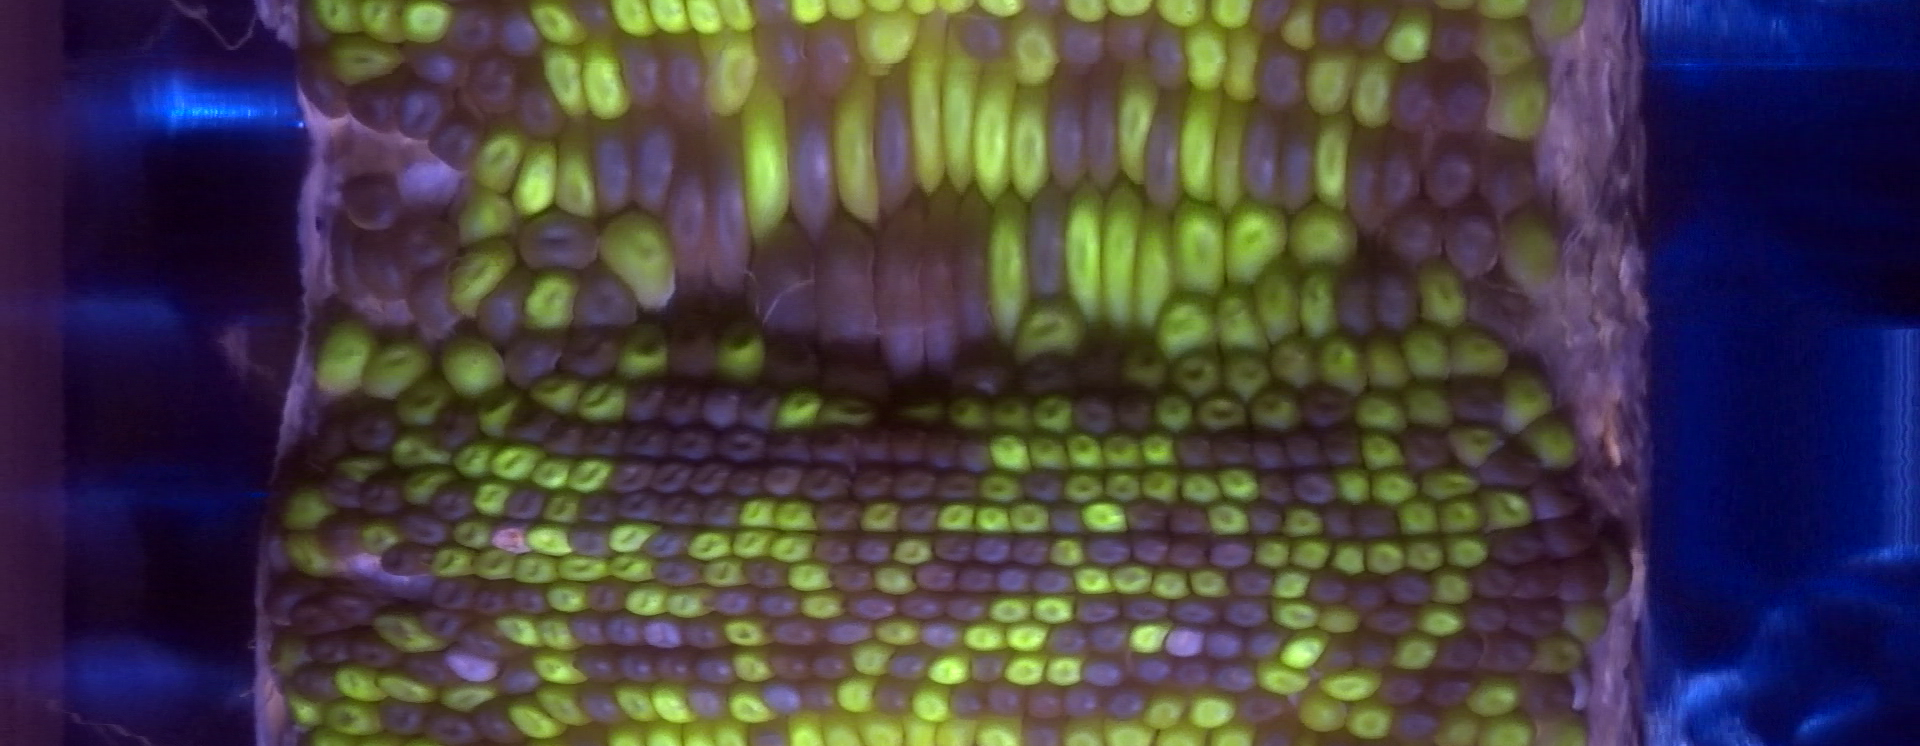fluorescent: (831, 71, 884, 229), (595, 209, 675, 312), (738, 89, 787, 235), (904, 36, 945, 197), (989, 190, 1029, 345), (1102, 181, 1139, 343), (1064, 187, 1103, 328), (944, 36, 980, 190), (1005, 85, 1051, 200), (1224, 201, 1286, 285), (449, 245, 518, 318), (697, 29, 756, 113), (318, 318, 378, 397), (1138, 209, 1176, 332), (1117, 72, 1156, 187), (1499, 216, 1559, 290), (1176, 205, 1224, 295), (1213, 99, 1250, 216), (1488, 69, 1548, 138), (1288, 209, 1356, 271), (980, 58, 1008, 198), (539, 43, 588, 124), (1153, 296, 1216, 359), (556, 130, 598, 220), (1349, 51, 1397, 129), (1311, 113, 1349, 209), (331, 38, 405, 87), (364, 347, 435, 398), (1498, 367, 1556, 429), (615, 321, 673, 381), (442, 339, 507, 393), (1180, 89, 1211, 203), (1414, 265, 1471, 326), (588, 34, 628, 118), (1016, 305, 1080, 358), (514, 138, 555, 220), (1221, 24, 1264, 102), (1476, 17, 1537, 71), (1400, 327, 1453, 387), (1011, 17, 1059, 85), (714, 323, 765, 385), (475, 122, 522, 190), (1255, 269, 1299, 341), (524, 269, 577, 328), (459, 187, 513, 243), (853, 15, 920, 59), (1185, 23, 1228, 91), (371, 612, 447, 650), (1213, 303, 1270, 353), (525, 4, 589, 47), (1293, 273, 1335, 338), (1382, 6, 1431, 61), (1321, 334, 1370, 390), (1453, 330, 1509, 379), (396, 379, 456, 423), (1307, 47, 1346, 113), (1558, 599, 1611, 646), (333, 659, 384, 706), (1356, 394, 1409, 437), (1449, 428, 1502, 470), (487, 440, 542, 481), (1520, 421, 1580, 459), (503, 702, 564, 737), (530, 650, 587, 688), (1403, 386, 1457, 425), (1536, 707, 1589, 746), (1251, 391, 1307, 429), (449, 436, 500, 478), (538, 686, 589, 726), (359, 1, 404, 47), (283, 535, 331, 578), (1273, 628, 1327, 666), (531, 375, 589, 410), (400, 465, 451, 506), (388, 432, 447, 467), (398, 4, 451, 42), (1128, 343, 1171, 390), (1176, 353, 1223, 394), (1364, 343, 1408, 387), (1223, 356, 1271, 397), (1273, 341, 1314, 388), (493, 612, 542, 652), (1469, 677, 1518, 717), (1278, 1, 1318, 49), (1483, 491, 1531, 530), (651, 684, 696, 725), (1256, 659, 1308, 695), (615, 684, 661, 723), (380, 674, 435, 707), (1536, 1, 1584, 38), (426, 544, 475, 581), (871, 615, 924, 648), (1536, 635, 1581, 674), (1145, 687, 1184, 733), (1321, 670, 1376, 702), (1417, 601, 1466, 637), (1125, 620, 1176, 654), (606, 518, 660, 550), (1297, 696, 1348, 729), (609, 2, 656, 38), (1348, 702, 1396, 737), (326, 706, 386, 734), (1397, 497, 1438, 539), (278, 688, 320, 729), (280, 492, 333, 524), (1393, 631, 1438, 669), (1422, 465, 1480, 494), (1270, 599, 1321, 631), (721, 619, 773, 650), (782, 709, 830, 744), (947, 396, 989, 434), (313, 2, 362, 36), (523, 526, 572, 559), (438, 682, 493, 712), (860, 709, 909, 742), (1194, 397, 1247, 428), (1280, 505, 1325, 540), (624, 583, 670, 619), (851, 642, 898, 676), (1429, 706, 1476, 740), (1005, 647, 1047, 685), (729, 688, 776, 722), (1100, 432, 1142, 469), (1189, 692, 1233, 728), (767, 496, 816, 528), (577, 390, 623, 423), (1375, 470, 1416, 508), (928, 649, 972, 684), (480, 393, 518, 432), (1483, 717, 1536, 745), (1007, 500, 1053, 532), (1157, 393, 1200, 428), (471, 478, 509, 516), (730, 647, 769, 684), (1439, 497, 1479, 533), (513, 550, 556, 583), (1430, 570, 1473, 603), (822, 710, 864, 744), (1036, 396, 1074, 432), (992, 434, 1029, 472), (915, 684, 951, 722), (360, 521, 399, 556), (1043, 653, 1082, 688), (688, 530, 733, 561), (1035, 594, 1078, 626), (873, 563, 917, 594), (1315, 604, 1359, 635), (561, 459, 609, 488), (767, 534, 814, 562), (860, 501, 900, 534), (733, 524, 774, 557), (782, 394, 824, 426), (538, 489, 579, 521), (996, 399, 1040, 429), (530, 457, 569, 490), (962, 621, 1007, 650), (273, 635, 306, 674), (820, 403, 873, 428), (1078, 505, 1125, 532), (538, 617, 576, 650), (838, 677, 876, 710), (1026, 434, 1067, 464), (475, 549, 516, 579), (1205, 505, 1253, 530), (702, 556, 747, 583), (740, 495, 775, 529), (1367, 537, 1401, 572), (992, 592, 1027, 626), (1365, 432, 1402, 465), (1449, 534, 1487, 566), (340, 453, 384, 480), (1335, 538, 1364, 578), (1408, 537, 1442, 571), (1075, 563, 1111, 597), (902, 713, 939, 745), (789, 565, 834, 590), (1060, 472, 1103, 499), (1220, 470, 1262, 497), (970, 501, 1009, 530), (1180, 472, 1220, 501), (556, 555, 602, 579), (1104, 719, 1151, 744), (669, 590, 713, 616), (800, 593, 844, 619), (1150, 570, 1187, 600), (1211, 1, 1253, 28), (547, 583, 589, 610), (1008, 621, 1046, 650), (980, 474, 1022, 500), (1142, 430, 1176, 463), (934, 720, 981, 744), (937, 503, 973, 533), (891, 538, 936, 562), (611, 552, 653, 578), (718, 1, 756, 29), (1063, 715, 1101, 744), (650, 2, 687, 31), (1193, 567, 1229, 595), (978, 720, 1022, 744), (643, 723, 687, 746), (687, 1, 719, 33), (1067, 441, 1100, 472), (1338, 472, 1371, 502), (1296, 539, 1331, 567), (1160, 1, 1202, 24), (1155, 726, 1209, 745), (1112, 565, 1150, 590), (1258, 534, 1288, 566), (909, 393, 943, 421), (1273, 572, 1308, 600), (602, 722, 645, 744), (1144, 469, 1176, 499), (1107, 472, 1138, 500), (1049, 541, 1082, 567), (1063, 1, 1106, 21), (715, 720, 749, 744), (1479, 2, 1527, 18), (683, 724, 721, 744), (1215, 725, 1255, 744), (791, 1, 825, 22), (978, 1, 1022, 16), (1111, 1, 1149, 17), (456, 527, 490, 543), (829, 1, 866, 16), (1433, 1, 1473, 12), (939, 1, 973, 13), (871, 1, 904, 12), (911, 1, 936, 13)
nonfluorescent: (880, 185, 934, 383), (816, 216, 880, 367), (782, 94, 844, 238), (752, 216, 823, 334), (924, 178, 962, 382), (705, 137, 751, 296), (958, 186, 994, 361), (666, 149, 709, 294), (873, 73, 915, 214), (1081, 71, 1125, 195), (803, 16, 869, 98), (1026, 187, 1071, 304), (1046, 65, 1085, 198), (1460, 276, 1536, 343), (1477, 136, 1545, 209), (516, 216, 605, 271), (1236, 104, 1281, 208), (358, 227, 418, 305), (587, 120, 636, 216), (1142, 91, 1182, 209), (1442, 205, 1505, 277), (407, 263, 463, 343), (662, 307, 715, 388), (628, 118, 671, 217), (1422, 137, 1476, 216), (576, 271, 648, 328), (661, 34, 709, 120), (1436, 66, 1494, 136), (822, 349, 894, 404), (1371, 260, 1422, 338), (1278, 102, 1311, 219), (478, 269, 525, 350), (1376, 121, 1417, 216), (948, 7, 1016, 62), (1344, 122, 1378, 236), (1395, 60, 1445, 134), (402, 43, 479, 91), (560, 327, 621, 387), (760, 336, 824, 393), (1384, 206, 1446, 263), (394, 216, 462, 268), (431, 113, 489, 174), (339, 175, 402, 232), (503, 325, 557, 388), (1445, 377, 1509, 431), (1260, 44, 1310, 111), (324, 212, 359, 310), (1146, 24, 1194, 94), (350, 78, 410, 134), (765, 20, 807, 98), (295, 62, 349, 122), (1069, 328, 1120, 391), (446, 1, 503, 56), (516, 87, 573, 142), (1336, 261, 1376, 339), (301, 405, 351, 468), (1474, 445, 1539, 492), (1433, 9, 1485, 67), (473, 56, 527, 111), (956, 345, 1015, 396), (399, 83, 451, 140), (624, 34, 660, 115), (798, 461, 858, 508), (1298, 383, 1356, 432), (1542, 510, 1599, 559), (1533, 469, 1587, 519), (497, 1, 542, 60), (1476, 632, 1536, 676), (285, 1, 336, 54), (349, 401, 397, 456), (1015, 352, 1071, 398), (1104, 13, 1153, 66), (1403, 420, 1452, 472), (1063, 18, 1107, 75), (459, 622, 527, 659), (1526, 669, 1572, 722), (431, 401, 476, 454), (1487, 524, 1549, 562), (571, 684, 627, 725), (1314, 1, 1360, 51), (571, 642, 621, 688), (1556, 559, 1610, 601), (378, 540, 438, 578), (263, 577, 307, 628), (1505, 604, 1570, 638), (1344, 570, 1393, 615), (1356, 1, 1398, 53), (1385, 565, 1436, 608), (1024, 561, 1084, 598), (321, 588, 375, 628), (289, 665, 343, 706), (427, 573, 482, 612), (918, 423, 959, 475), (571, 1, 624, 40), (665, 421, 719, 461), (698, 387, 744, 432), (1116, 391, 1164, 434), (1351, 632, 1400, 675), (849, 465, 904, 503), (347, 628, 397, 670), (435, 474, 478, 522), (320, 516, 362, 563), (1438, 635, 1485, 677), (422, 708, 476, 746), (258, 518, 294, 576), (640, 611, 689, 653), (400, 511, 456, 548), (396, 652, 451, 688), (362, 472, 407, 517), (684, 610, 730, 654), (478, 699, 520, 746), (1164, 598, 1224, 631), (718, 428, 767, 468), (658, 490, 707, 530), (493, 659, 545, 697), (1234, 693, 1293, 726), (1021, 467, 1068, 508), (1291, 472, 1343, 508), (305, 631, 358, 668), (1320, 429, 1368, 469), (1354, 505, 1403, 544), (1070, 396, 1120, 434), (622, 381, 666, 424), (807, 423, 851, 465), (508, 397, 553, 439), (441, 650, 497, 684), (947, 682, 996, 720), (1212, 428, 1255, 470), (740, 390, 784, 431), (650, 454, 694, 496), (851, 423, 891, 468), (813, 501, 864, 537), (622, 423, 670, 461), (607, 459, 655, 497), (1124, 499, 1172, 537), (585, 578, 633, 616), (291, 600, 339, 638), (744, 1, 801, 33), (955, 434, 997, 477), (1282, 429, 1325, 470), (602, 609, 647, 649), (822, 616, 876, 649), (760, 461, 807, 499), (1164, 534, 1212, 571), (1226, 568, 1281, 600), (545, 413, 587, 454), (1474, 560, 1516, 601), (1173, 431, 1216, 472), (1513, 562, 1558, 601), (1164, 499, 1215, 533), (567, 524, 617, 559), (1085, 624, 1135, 658), (1010, 530, 1056, 568), (888, 423, 924, 469), (1108, 687, 1155, 724), (1118, 594, 1169, 627), (753, 586, 804, 619), (419, 610, 470, 643), (1380, 673, 1428, 708), (1080, 655, 1128, 691), (824, 567, 882, 597), (1571, 666, 1602, 722), (806, 652, 855, 686), (797, 680, 846, 714), (684, 684, 729, 722), (503, 488, 550, 523), (1071, 593, 1118, 628), (665, 387, 705, 428), (1204, 628, 1247, 666), (653, 559, 710, 587), (763, 426, 807, 463), (576, 490, 620, 527), (1081, 537, 1130, 570), (874, 681, 918, 718), (382, 701, 426, 737), (931, 529, 976, 565), (1430, 676, 1476, 712), (1250, 1, 1297, 36), (725, 465, 771, 500), (689, 458, 727, 500), (493, 521, 535, 559), (1024, 684, 1065, 722), (615, 492, 662, 526), (323, 472, 360, 514), (913, 562, 962, 594), (898, 501, 943, 535), (1220, 600, 1275, 628), (1365, 608, 1418, 637), (469, 588, 516, 621), (640, 528, 691, 559), (1307, 568, 1346, 608), (975, 529, 1014, 568), (620, 649, 659, 688), (564, 611, 606, 648), (1392, 709, 1434, 746), (1048, 501, 1091, 537), (1171, 661, 1213, 697), (889, 647, 932, 682), (852, 537, 900, 568), (942, 594, 989, 626), (583, 421, 623, 458), (1129, 533, 1169, 570), (1245, 625, 1286, 661), (894, 590, 947, 619), (1210, 538, 1256, 570), (1213, 666, 1264, 696), (1166, 624, 1209, 658), (707, 588, 754, 619), (771, 616, 825, 643), (693, 652, 738, 684), (1258, 472, 1297, 508), (1245, 502, 1284, 539), (1125, 654, 1174, 684), (895, 470, 938, 503), (702, 497, 744, 530), (1047, 624, 1091, 655), (936, 467, 975, 502), (1464, 600, 1505, 635), (655, 657, 696, 691), (814, 532, 856, 565), (1063, 685, 1104, 718), (969, 650, 1010, 684), (746, 559, 789, 590), (513, 582, 551, 617), (1319, 507, 1358, 541), (1253, 432, 1284, 474), (920, 620, 964, 649), (845, 593, 895, 619), (748, 718, 793, 746), (958, 563, 996, 597), (1320, 643, 1356, 677), (773, 646, 811, 677), (763, 684, 801, 715), (1258, 718, 1300, 746), (992, 685, 1026, 719), (1021, 718, 1063, 746), (992, 568, 1029, 597)
